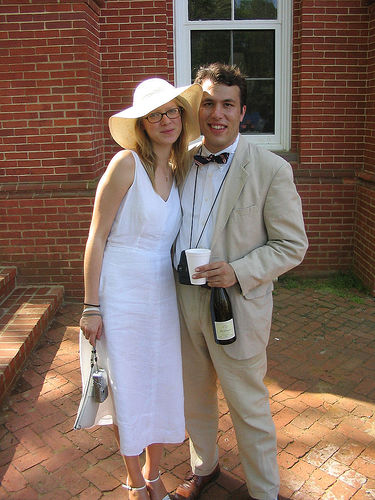without_mask: (197, 82, 251, 148), (137, 100, 188, 150)
